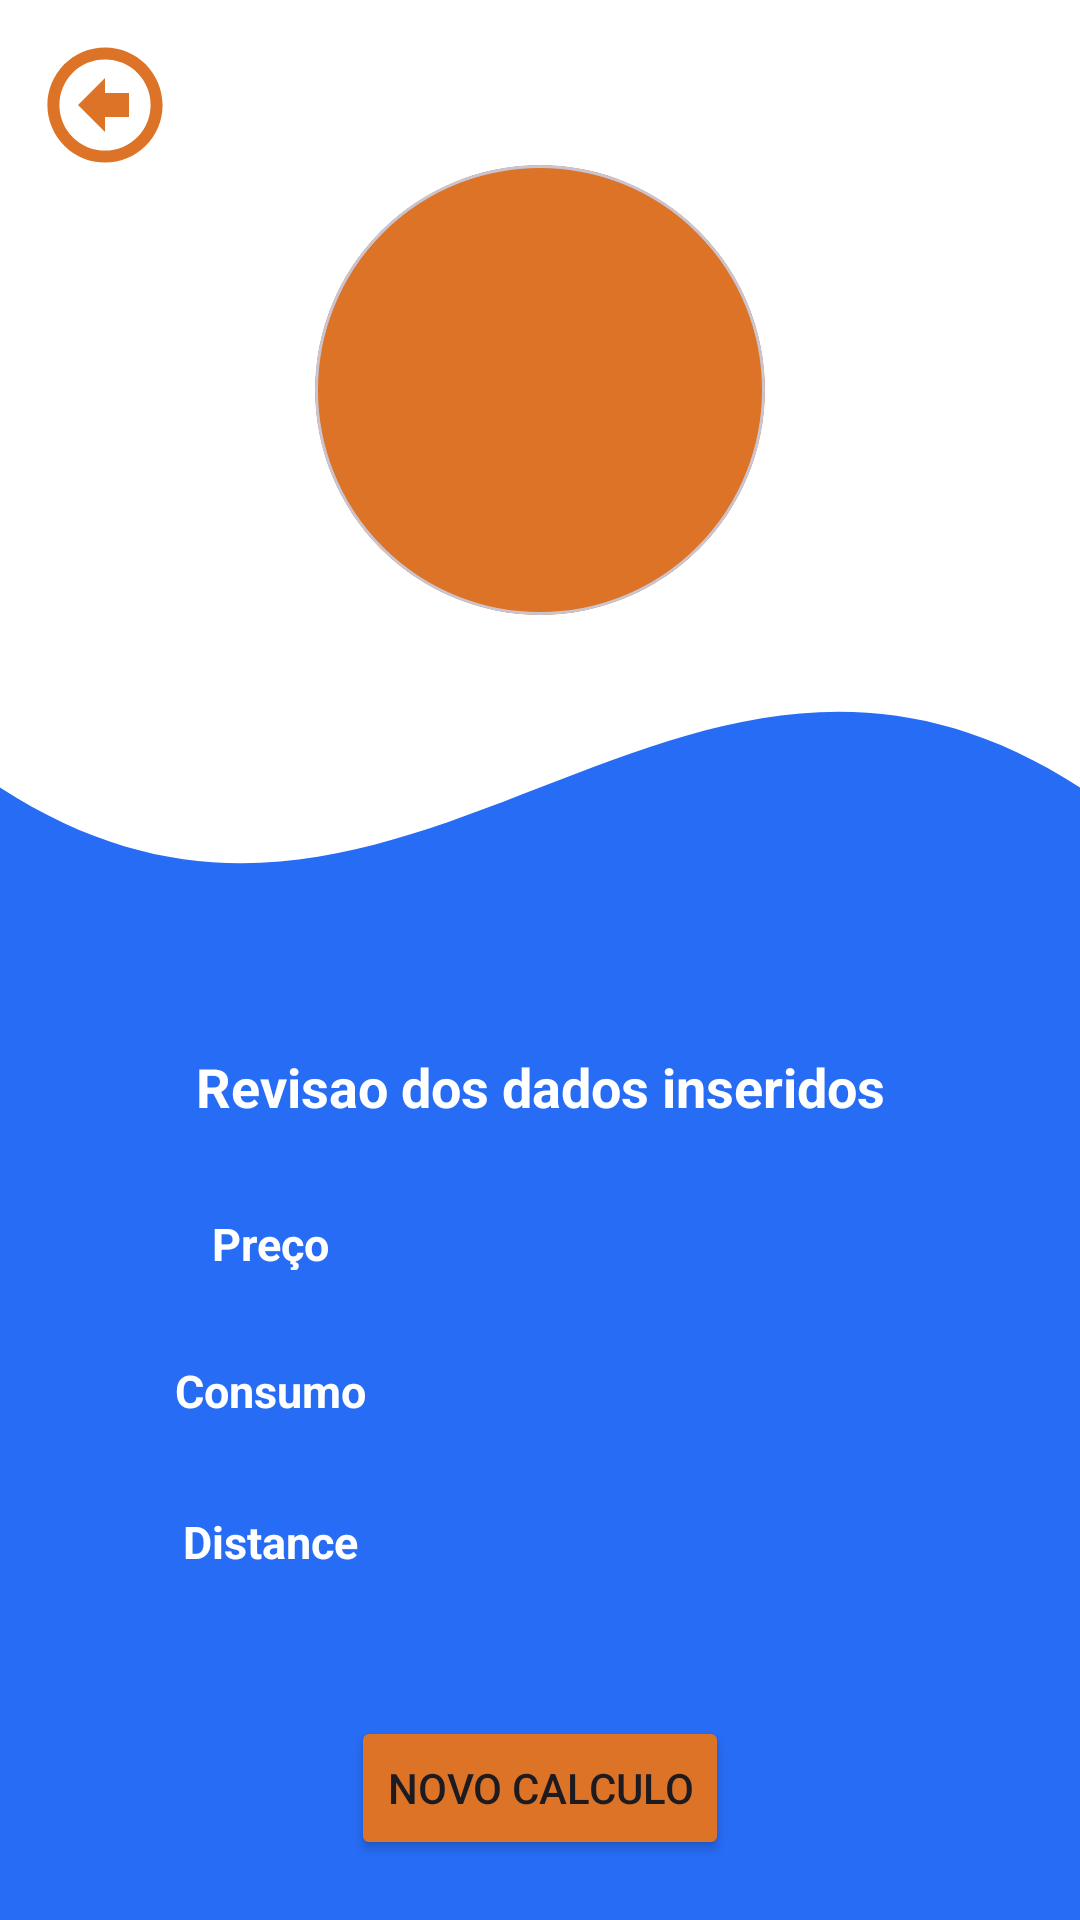

Named icons in this screenshot (1080×1920) and their centers, point (x, y):
arrow: point (105, 105)
